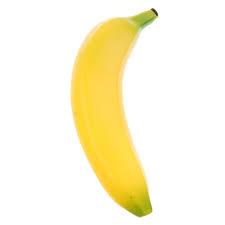banana: (70, 6, 161, 217)
